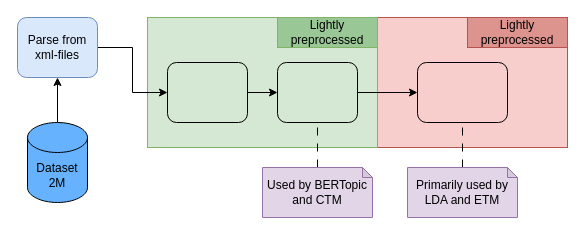
Image size: 585x235. Some labels were removed from this diagram. Here are the shapes that lost their labels. From the top down, the centre of each, then its label:
(x=207, y=92): De-hyphenate and remove linebreaks
(x=317, y=92): lowercasing and whitespace removal
(x=462, y=92): Remove stopwords and rare words
